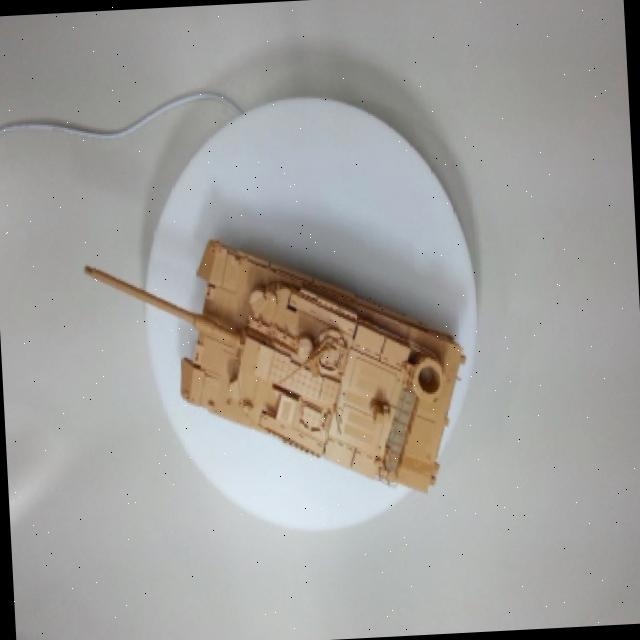korea tank: (77, 192, 516, 530)
